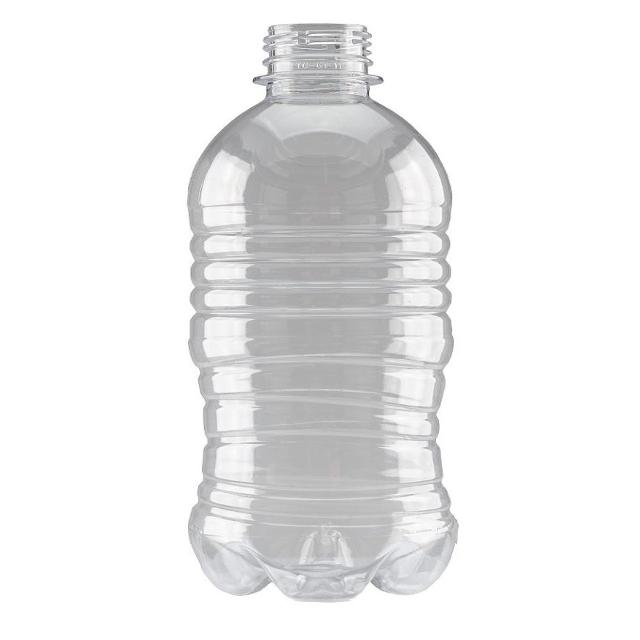bottle: (189, 25, 456, 600)
